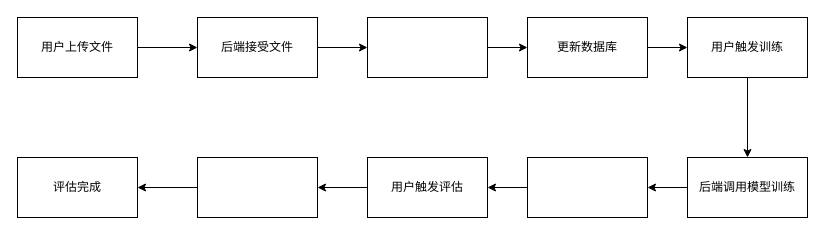
The diagram is 825 pixels wide and 235 high, and some of its shapes have lost their labels. The box of each missing label's shape, as (x1, y1, x2, y2) in pixels:
保存文件到服务器: (366, 16, 488, 78)
后端调用评估逻辑: (196, 156, 318, 218)
训练完成: (526, 156, 648, 218)
